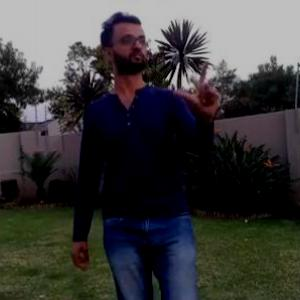land_hand: (171, 61, 228, 118)
